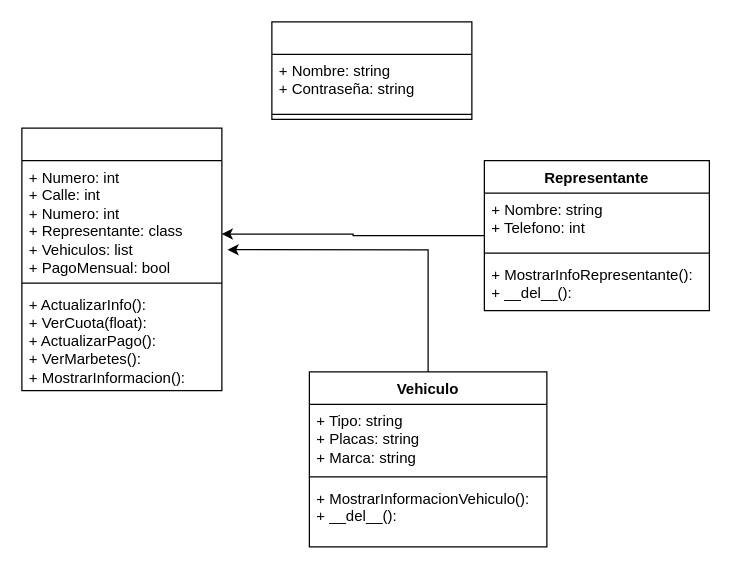
Image size: 731x573. Some labels were removed from this diagram. Here are the shapes that lost their labels. From the top down, the box of each, then its label:
(271, 21, 472, 119): Usuario
(21, 127, 222, 391): Casa
